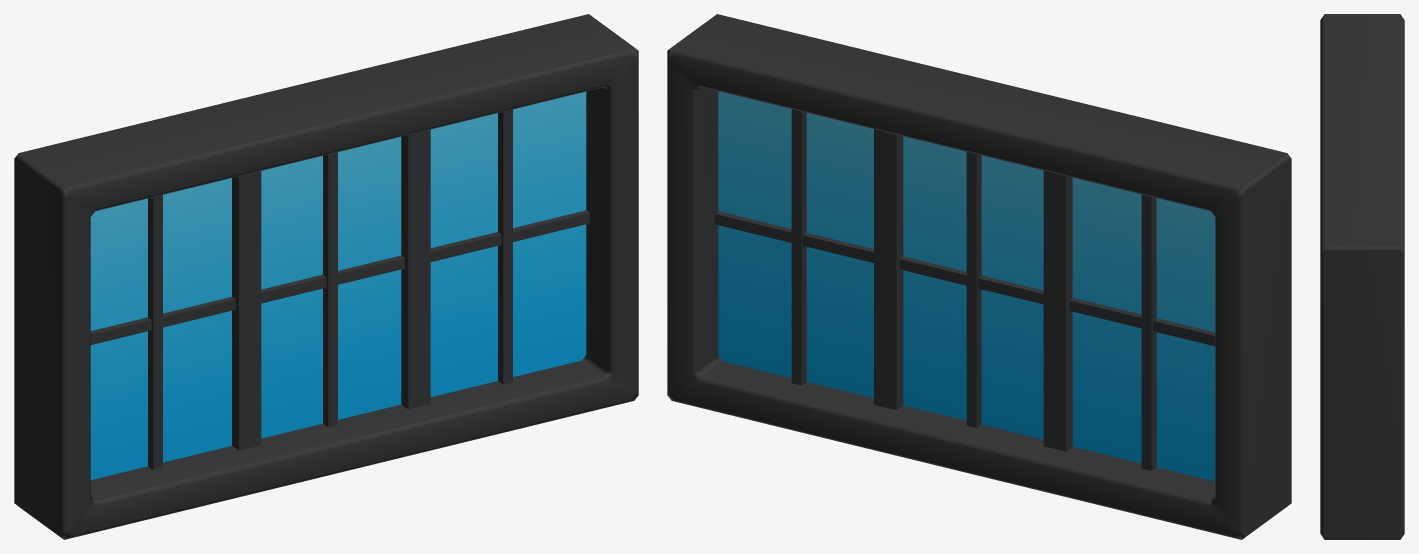
The model's file is Window_Black_01.glb.
3 views of the same model, side by side, from view 1: azimuth 30°, elevation 25°; view 2: azimuth 150°, elevation 25°; view 3: azimuth 270°, elevation 25° (orthographic). The views are drawn at different scales.
Parts seen in each view (by area): view 1: Window_Black_01; view 2: Window_Black_01; view 3: Window_Black_01.
Boxes of the visible parts, x1,y1,x2,y2 form: Window_Black_01: (14,14,638,539); Window_Black_01: (667,14,1291,539); Window_Black_01: (1320,14,1404,539).
Size of the model in its own units: 2.64 by 1.54 by 0.4.
2 materials, 2 textured.
